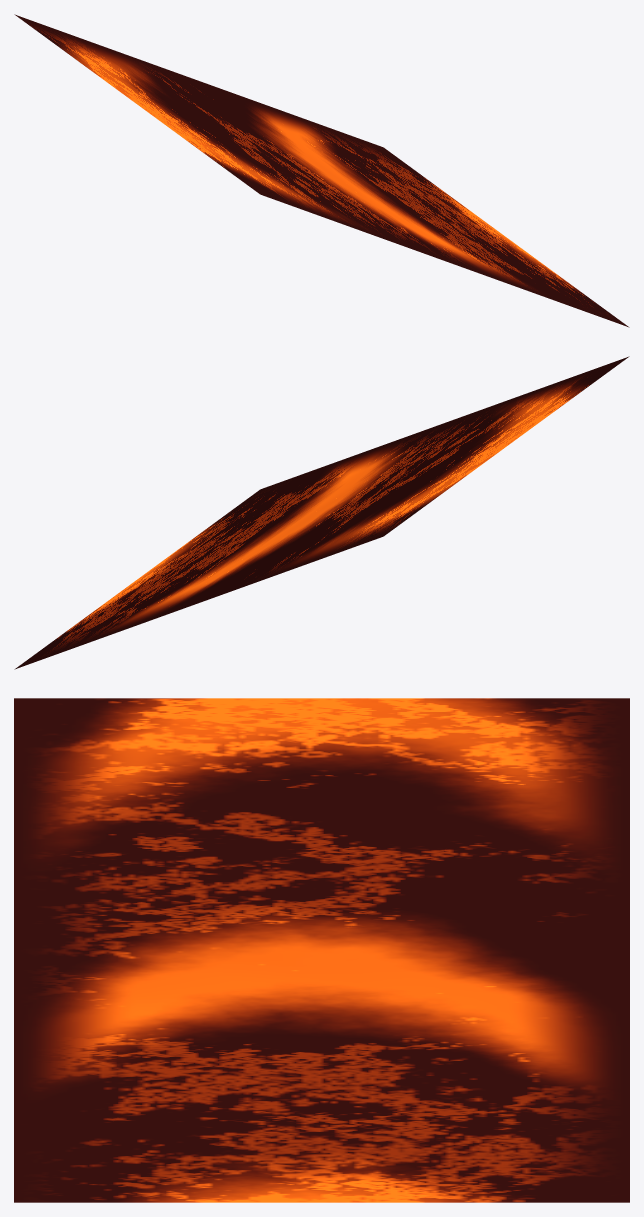
The model's file is ripple_30.glb.
The picture shows the model from 3 angles, top to bottom: view 1: azimuth 30°, elevation 25°; view 2: azimuth 150°, elevation 25°; view 3: azimuth 270°, elevation 25°; orthographic projection. The views are drawn at different scales.
Visible parts, largest first — view 1: r; view 2: r; view 3: r.
Part boxes in pixels (box(x1,y1,x2,y2)): r: box(14, 14, 629, 327); r: box(14, 356, 629, 669); r: box(14, 698, 629, 1202).
Bounding box in the file's own units: 0.866 × 0.5 × 1.
Materials: 1 (1 with a texture image).
